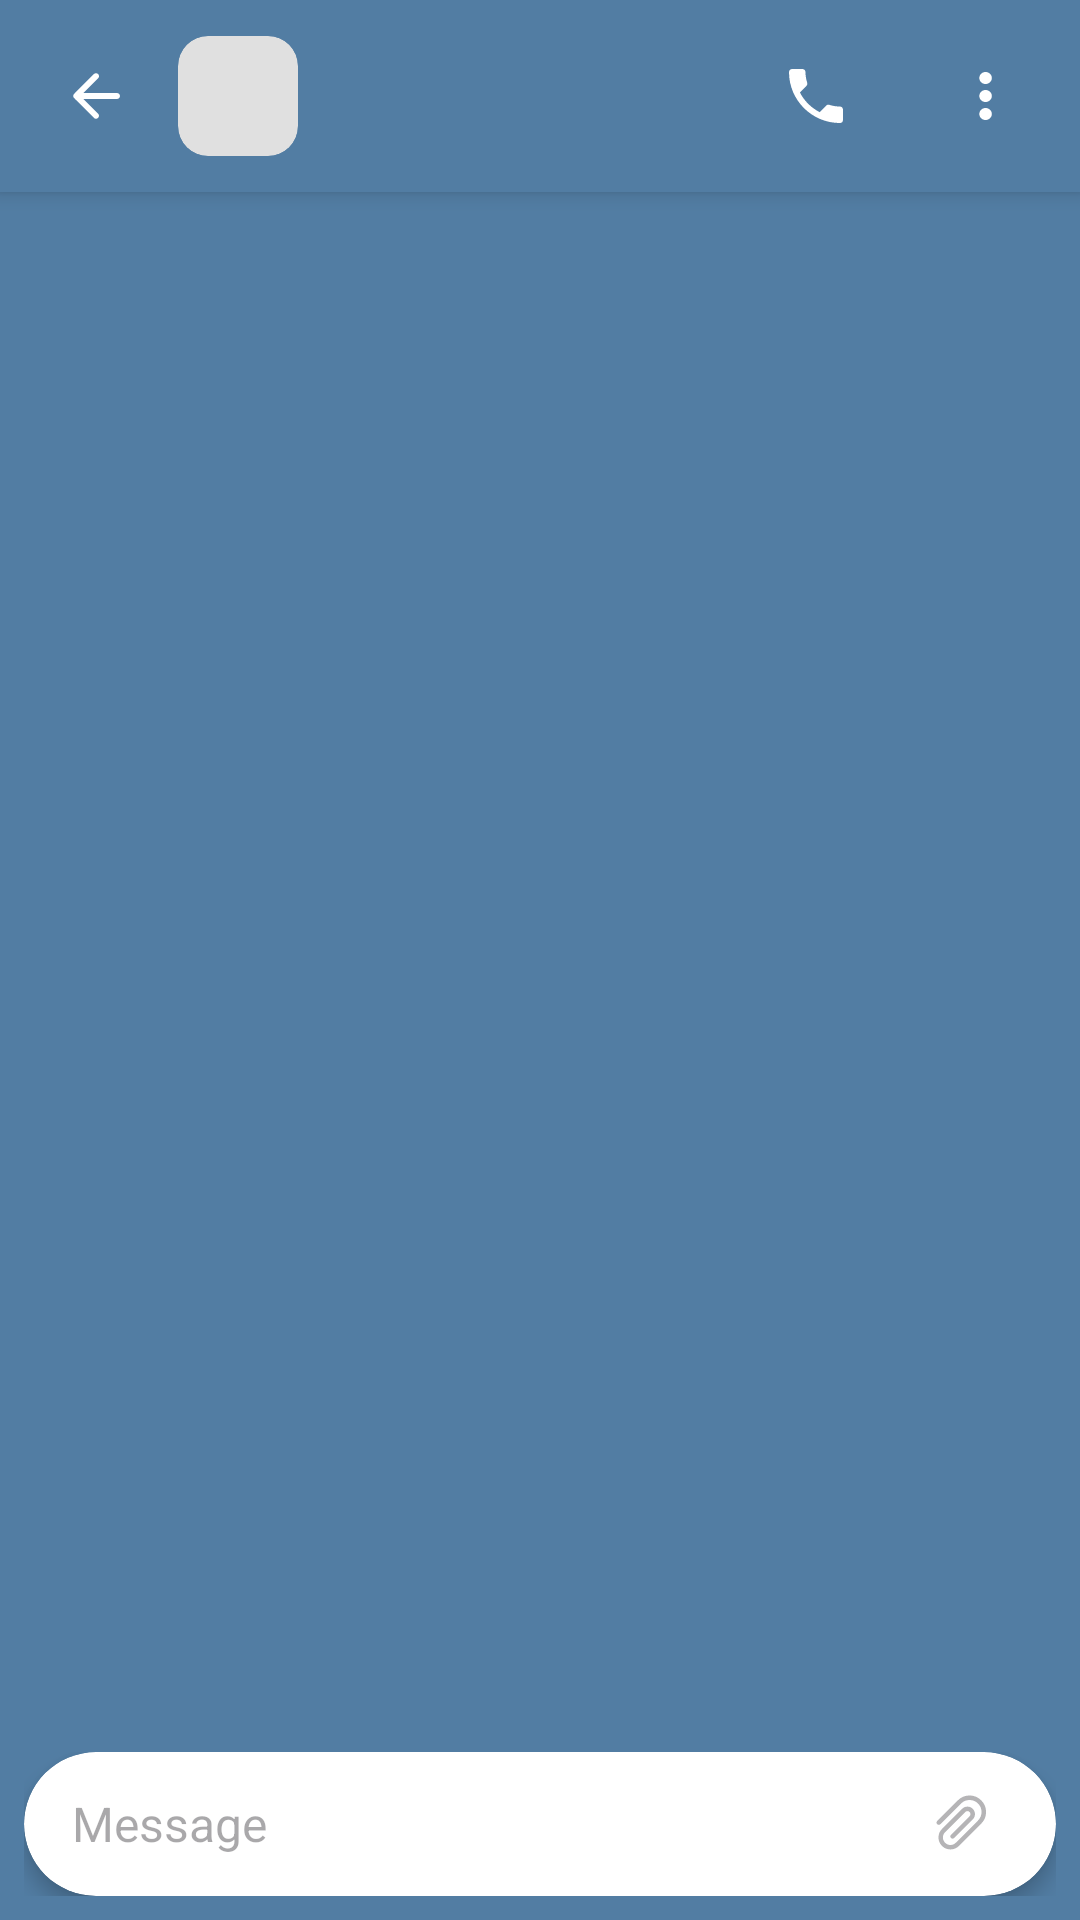

Named icons in this screenshot (1080 x 1920) and their centers, (x=x, y=y):
attachment: (x=960, y=1824)
back: (x=96, y=96)
call: (x=816, y=96)
more: (x=985, y=96)
